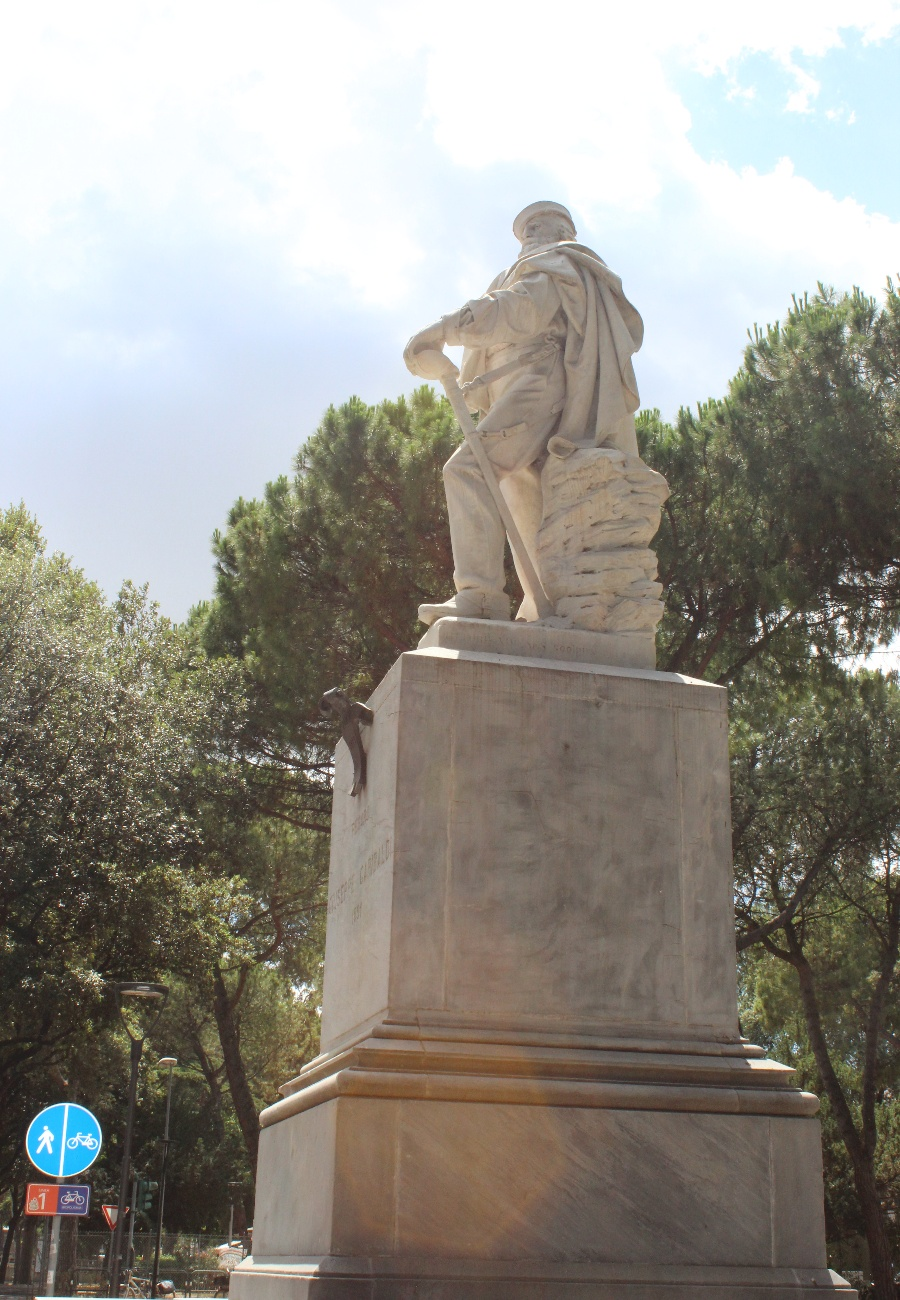Giuseppe Garibaldi: (402, 200, 649, 629)
